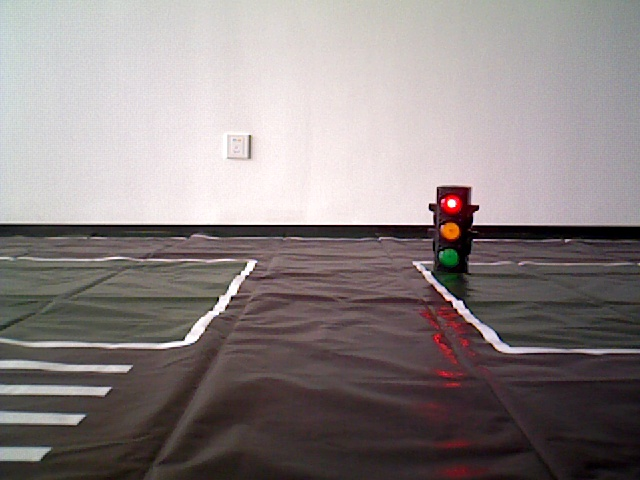red: (434, 190, 469, 275)
